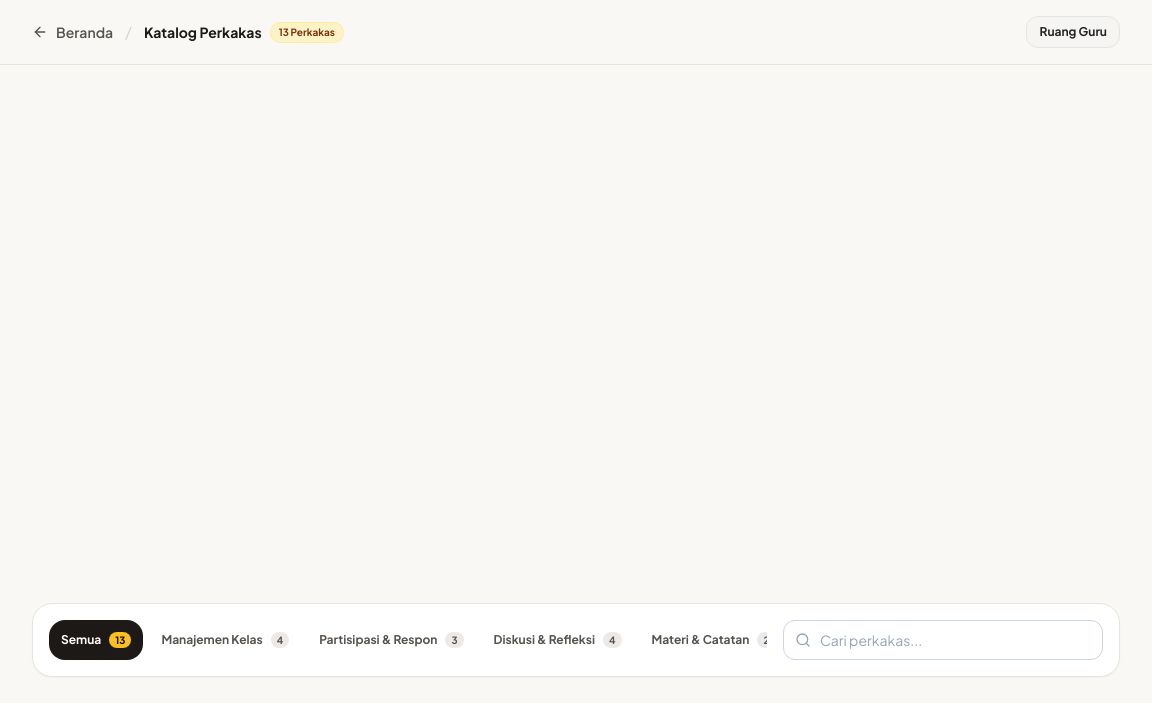
ToolsPage (/tools) — Teacher Toolbox Catalogue › filters tools by search query and allows reset
Type "nonexistent_xyz" into the search field with placeholder "Cari perkakas..." at (943, 640), box x1=783 y1=620 x2=1103 y2=660
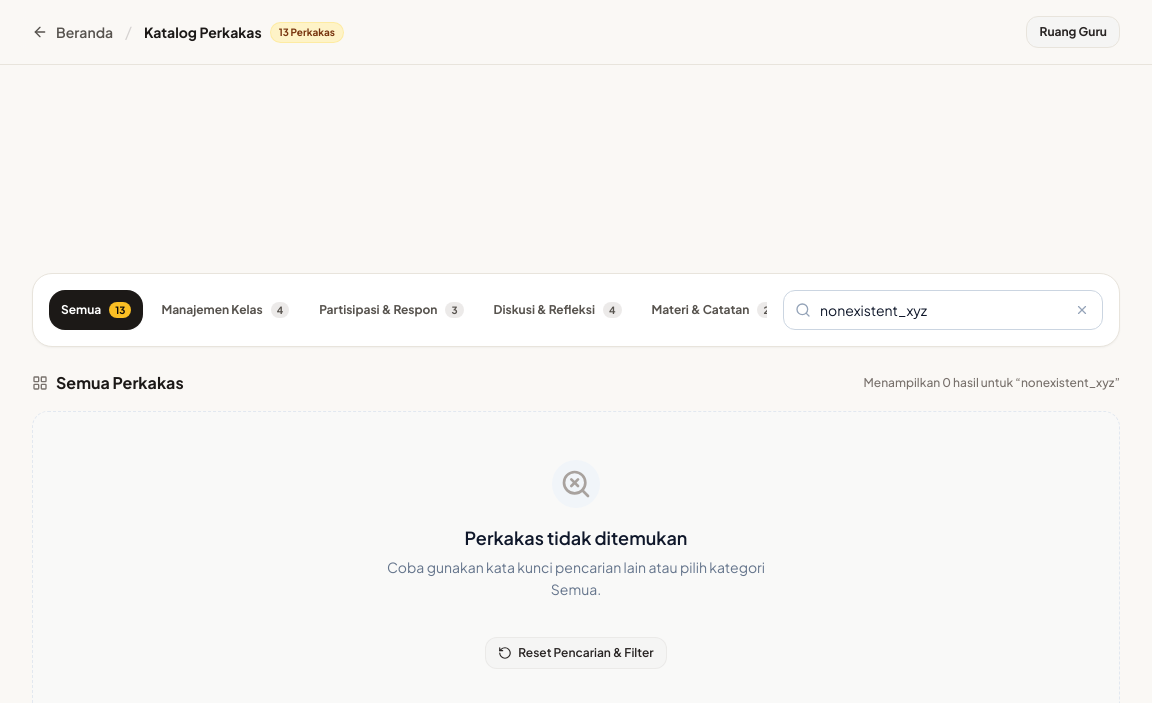
Expected: the heading "Perkakas tidak ditemukan" is shown, x1=465 y1=524 x2=687 y2=552
Click the button "Reset Pencarian & Filter" at (576, 653), box x1=485 y1=637 x2=667 y2=669
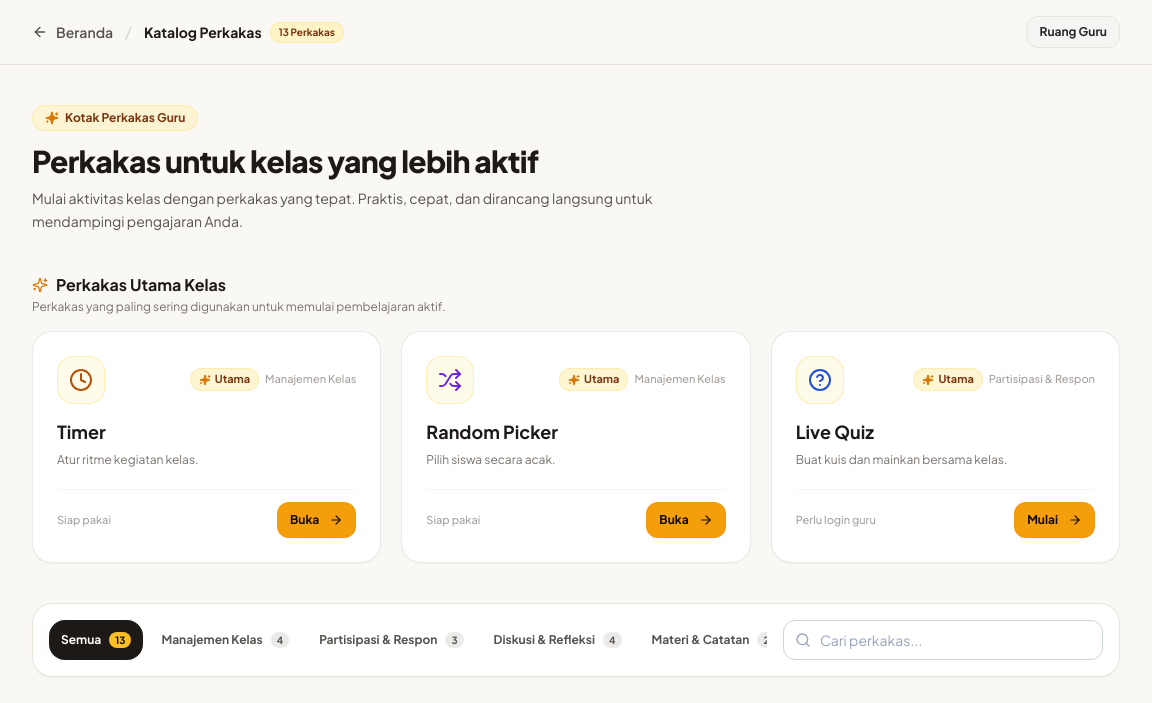
Expected: the heading "Perkakas tidak ditemukan" is gone
